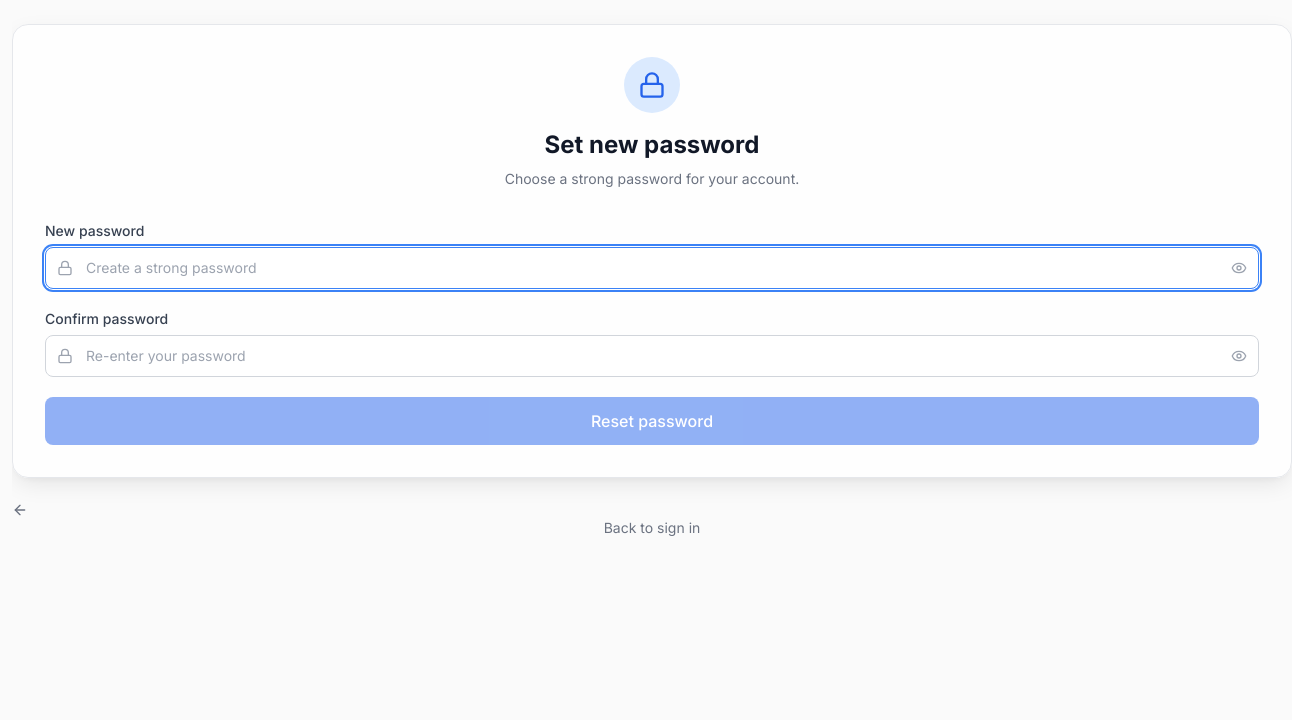
Test: ResetPasswordPage › shows success screen after reset
In the password field labelled "New password": coordinates (652, 268) [45,247,1259,289], type "StrongPass1!"
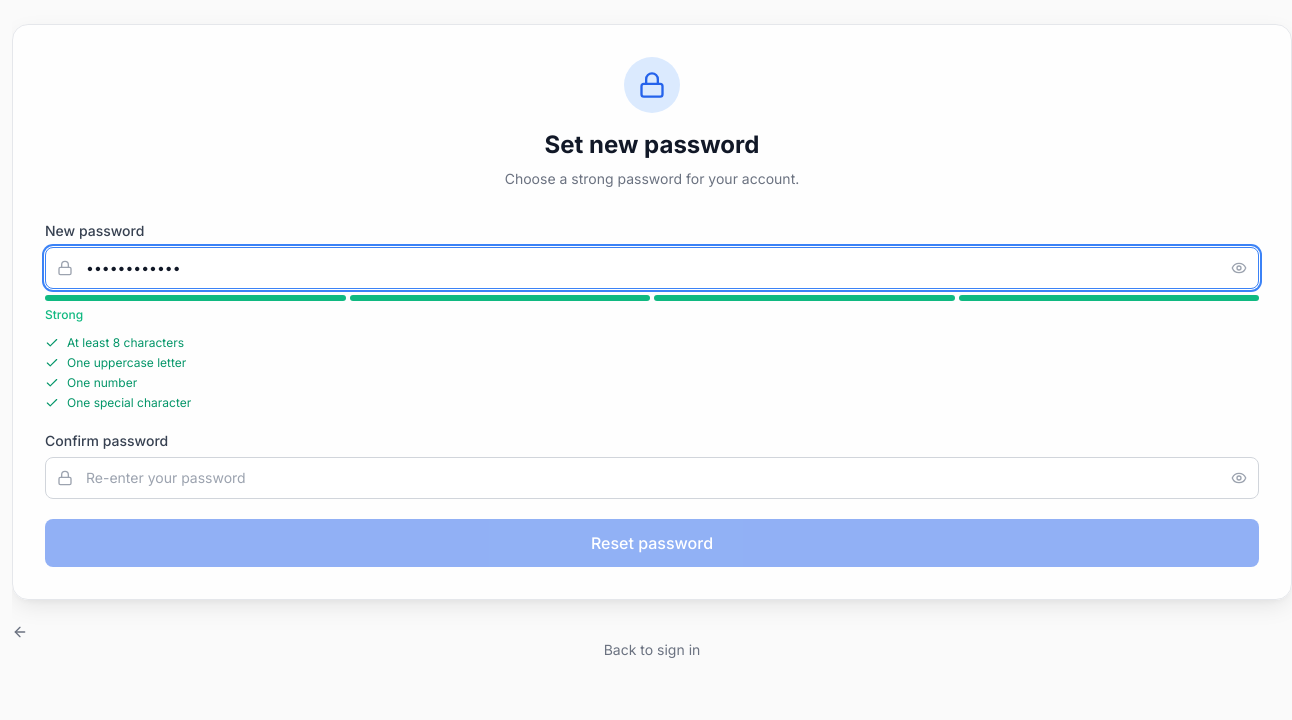
In the password field labelled "Confirm password": coordinates (652, 478) [45,457,1259,499], type "StrongPass1!"
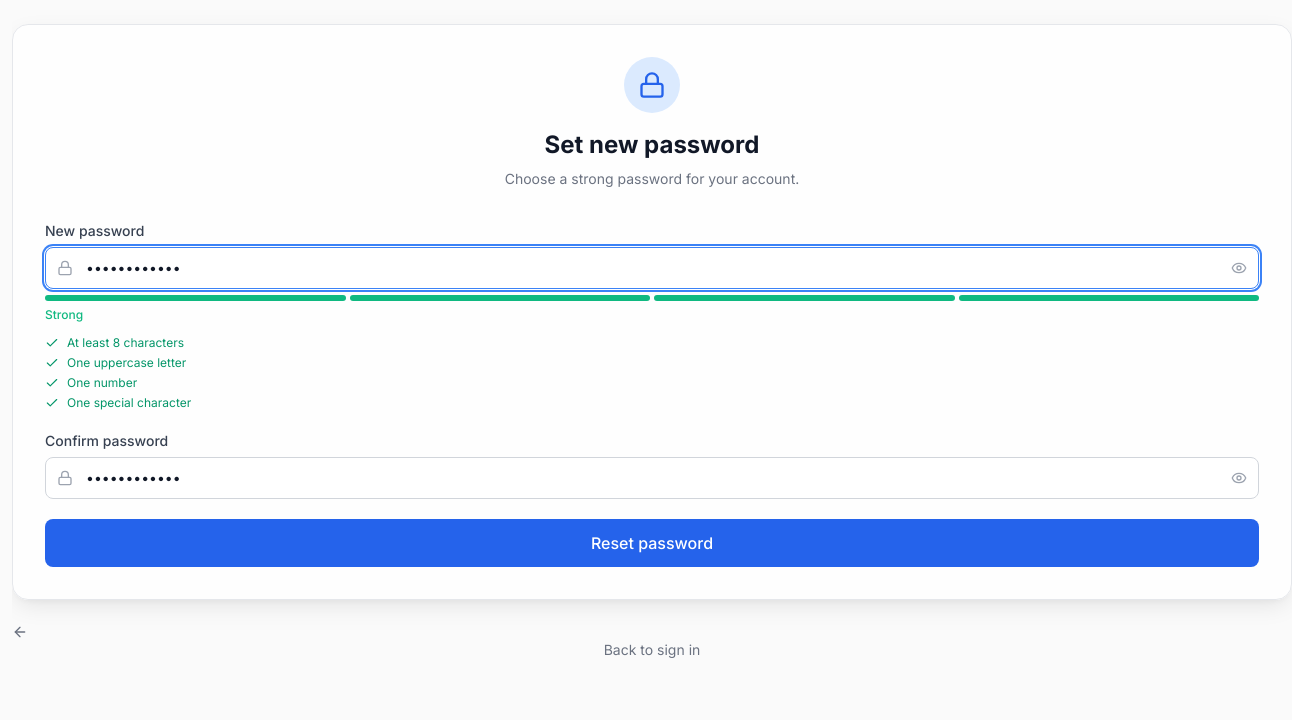
Click the button "Reset password": coordinates (652, 543) [45,519,1259,567]
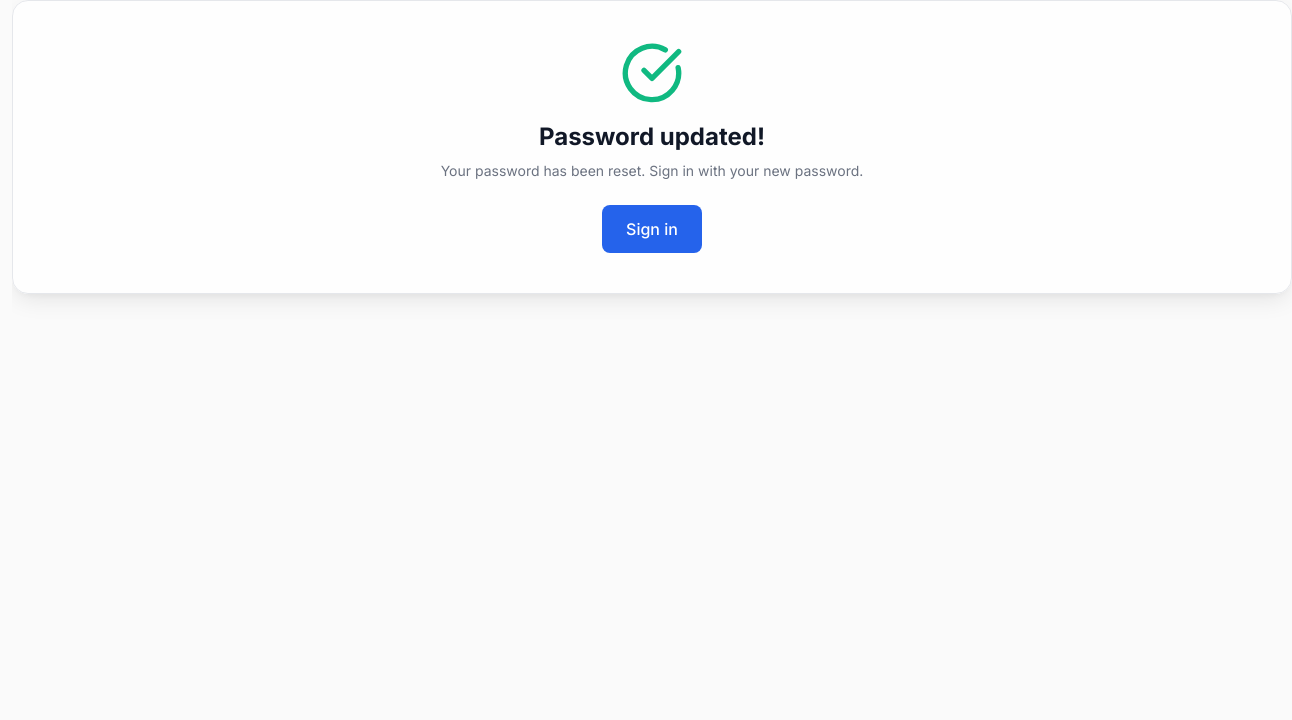
Now the heading "Password updated!" is shown, box [539,122,765,151]
